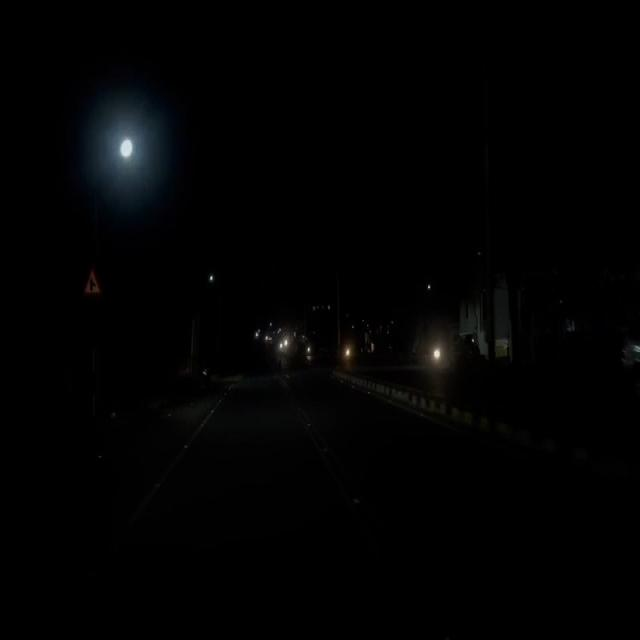bien_cam: (81, 265, 102, 296)
